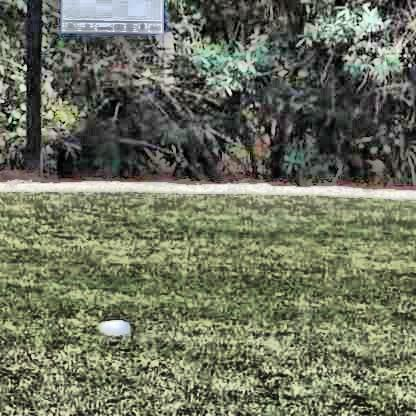golfball: (99, 315, 129, 341)
